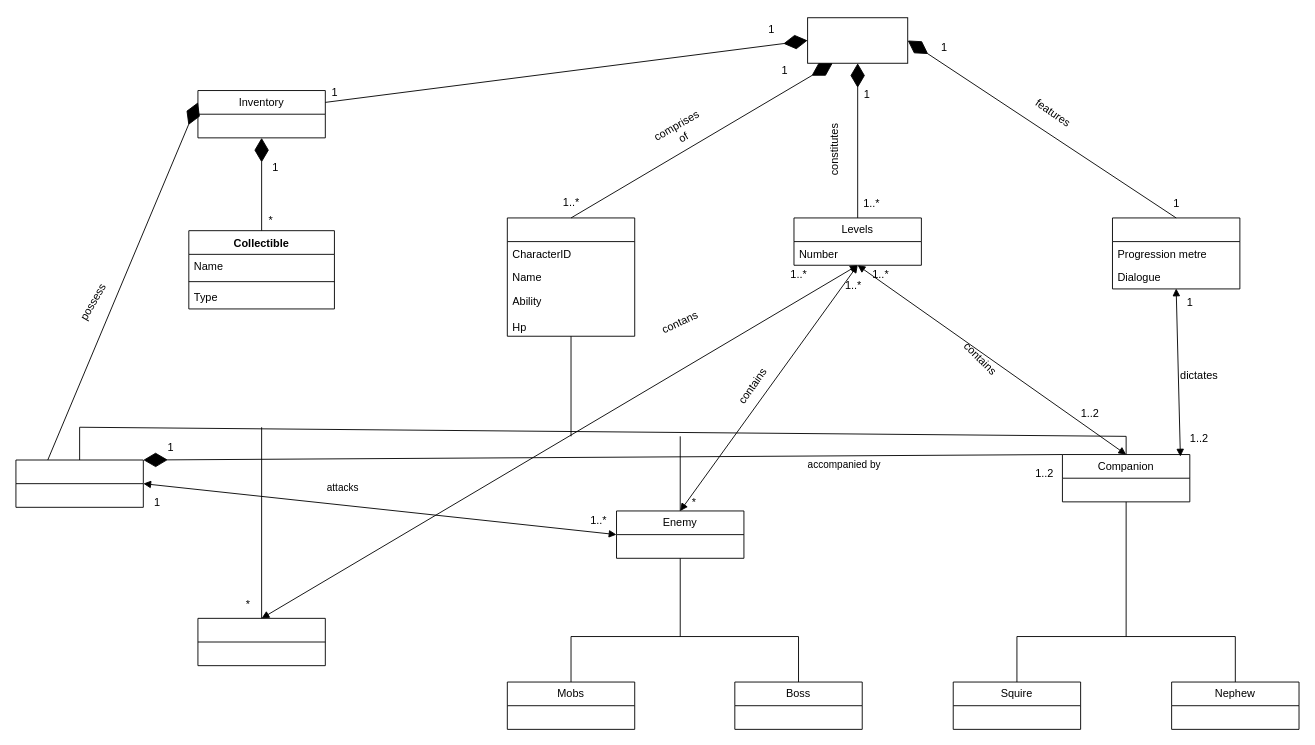
Some shapes in this 1315 by 745 pixel diagram are drawn without their labels. The shapes that lost their labels are listed below. From the top down, each one's box as (x1, y1, x2, y2) in pixels, then its label:
(807, 17, 908, 63): Game
(1112, 217, 1240, 289): Story
(506, 217, 635, 336): Characters
(15, 459, 143, 507): Protagonist
(197, 617, 325, 666): Knight
